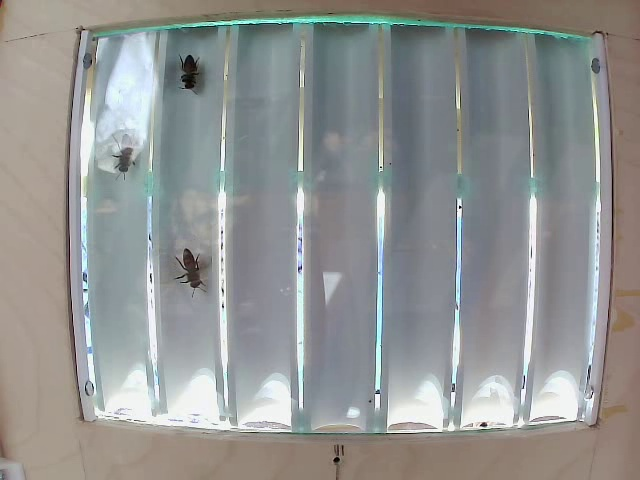bee: (178, 242, 220, 316), (102, 140, 149, 178), (176, 46, 207, 103)
